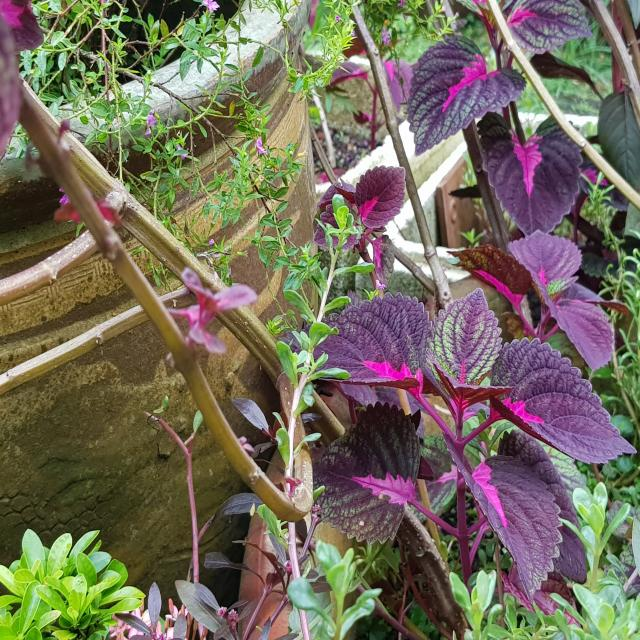Coleus: (324, 284, 602, 590), (414, 11, 612, 291)
